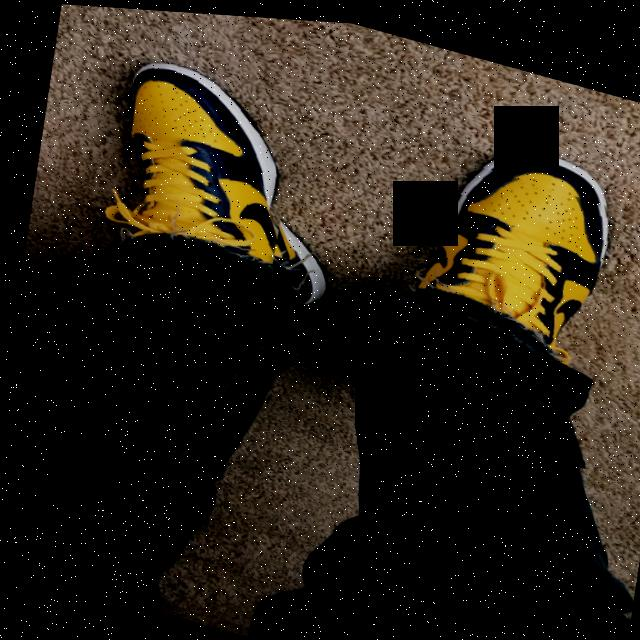shoe: (350, 135, 640, 479), (26, 8, 316, 322)
